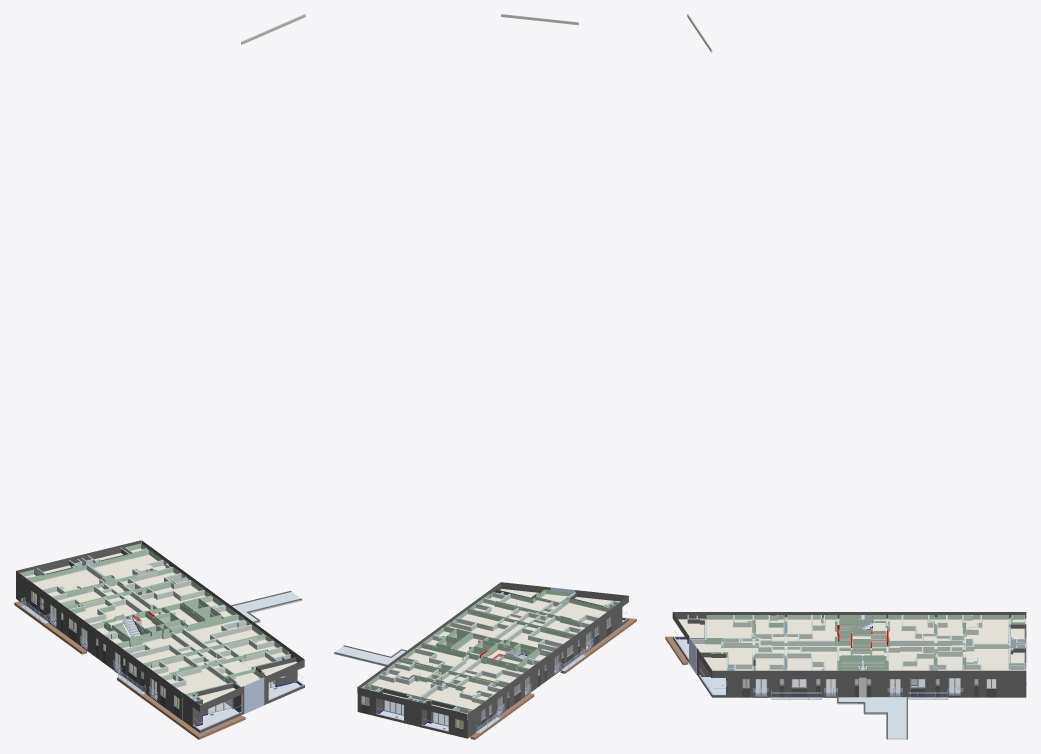
The model's file is Visus_modelo.glb.
The picture shows the model from 3 angles, left to right: view 1: azimuth 30°, elevation 25°; view 2: azimuth 150°, elevation 25°; view 3: azimuth 270°, elevation 25°; orthographic projection. The views are drawn at different scales.
Parts seen in each view (by area): view 1: 2b0dly4Nr39PiiBJ1MzTvD, 0L2cnQ6m1CZAELJ6Qt9wBl, 3ouJ6js219meK1itu8IukB, 09kXiq9er3wvLwALaNWC7M, 3e7it9NiH70ObuFQkJdQJG, 3sQwC2roL0gA19XxBFdGtD, 39k4i00V55Lg$loCNG66Ig, 3_S8SCCLHCcO2ABgLEueXC, 3KAzMfi4X498fxtNlBsKYh; view 2: 2b0dly4Nr39PiiBJ1MzTvD, 0L2cnQ6m1CZAELJ6Qt9wBl, 3ouJ6js219meK1itu8IukB, 3e7it9NiH70ObuFQkJdQJG; view 3: 0L2cnQ6m1CZAELJ6Qt9wBl, 3ouJ6js219meK1itu8IukB, 2b0dly4Nr39PiiBJ1MzTvD, 3_S8SCCLHCcO2ABgLEueXC, 0L2cnQ6m1CZAELJ6Qt9w5w, 0L2cnQ6m1CZAELJ6Qt9w2c.
Boxes of the visible parts, x1,y1,x2,y2 form: 2b0dly4Nr39PiiBJ1MzTvD: (16,571,182,698); 0L2cnQ6m1CZAELJ6Qt9wBl: (141,540,304,660); 3ouJ6js219meK1itu8IukB: (232,592,300,621); 09kXiq9er3wvLwALaNWC7M: (182,661,226,691); 3e7it9NiH70ObuFQkJdQJG: (44,570,104,590); 3sQwC2roL0gA19XxBFdGtD: (244,677,264,714); 39k4i00V55Lg$loCNG66Ig: (110,585,217,660); 3_S8SCCLHCcO2ABgLEueXC: (94,559,141,584); 3KAzMfi4X498fxtNlBsKYh: (118,678,244,736); 2b0dly4Nr39PiiBJ1MzTvD: (467,607,613,719); 0L2cnQ6m1CZAELJ6Qt9wBl: (357,582,500,692); 3ouJ6js219meK1itu8IukB: (335,646,405,664); 3e7it9NiH70ObuFQkJdQJG: (426,684,471,707); 0L2cnQ6m1CZAELJ6Qt9wBl: (712,670,1026,677); 3ouJ6js219meK1itu8IukB: (838,697,906,739); 2b0dly4Nr39PiiBJ1MzTvD: (706,612,1026,618); 3_S8SCCLHCcO2ABgLEueXC: (963,649,1008,668); 0L2cnQ6m1CZAELJ6Qt9w5w: (996,677,1026,697); 0L2cnQ6m1CZAELJ6Qt9w2c: (871,677,910,696).
Size of what is drawn, in the model's own units: 26.47 by 78.23 by 39.37.
